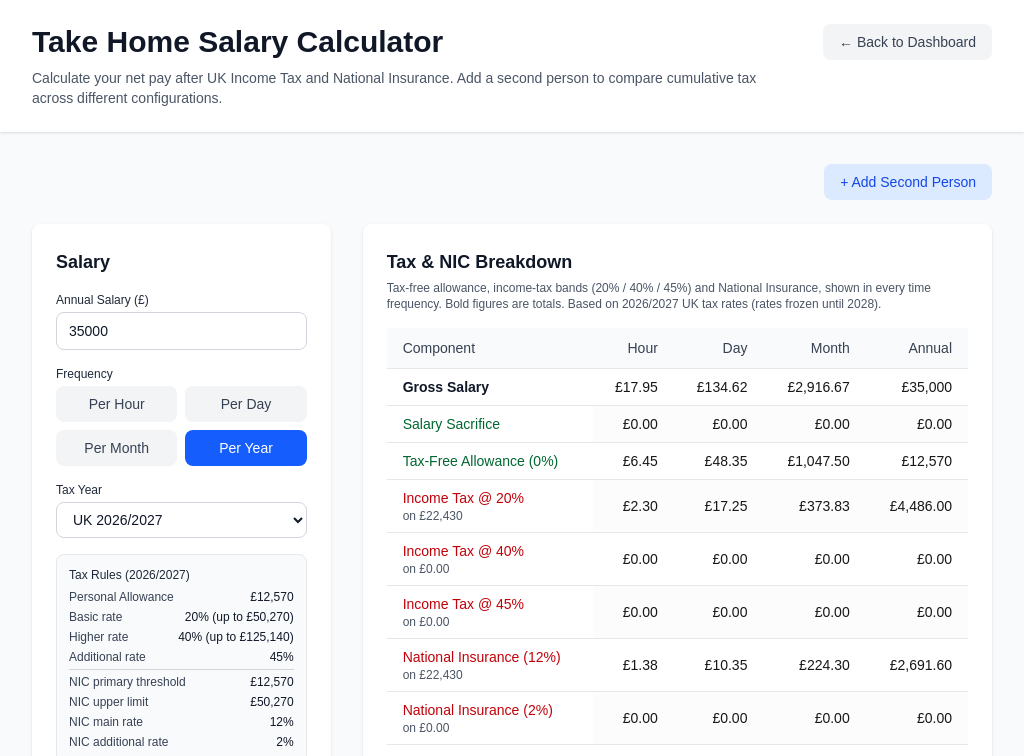
Test: TakeHomeSalaryCalculator › shows a second person's inputs when Add Second Person is clicked
The width and height of the screenshot is (1024, 756).
Click the button "+ Add Second Person". click: (908, 182)
box: [824,164,992,200]
(page scrolled)
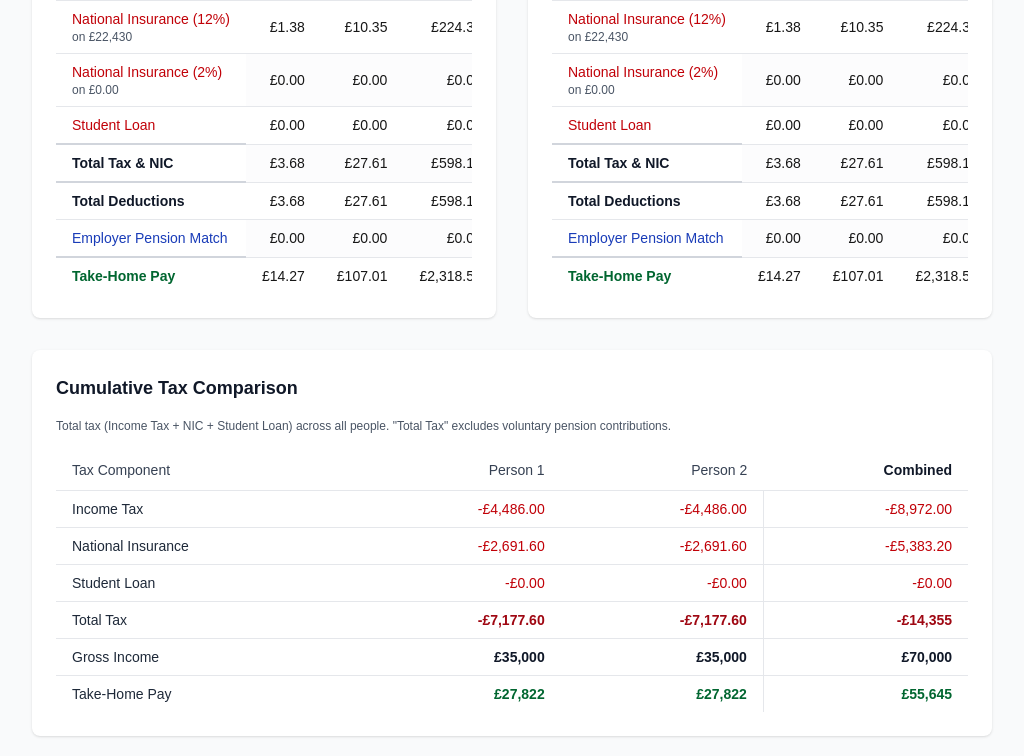
Expected: the heading "Cumulative Tax Comparison" is shown, [56,378,298,398]
Expected: the column heading "Combined" is shown, [763,450,968,490]
